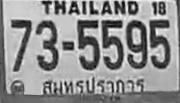3: (35, 19, 58, 70)
5: (76, 19, 99, 69), (101, 19, 123, 69), (149, 19, 169, 68)
7: (10, 19, 31, 71)
9: (125, 19, 147, 68)
SPK: (40, 75, 149, 96)
